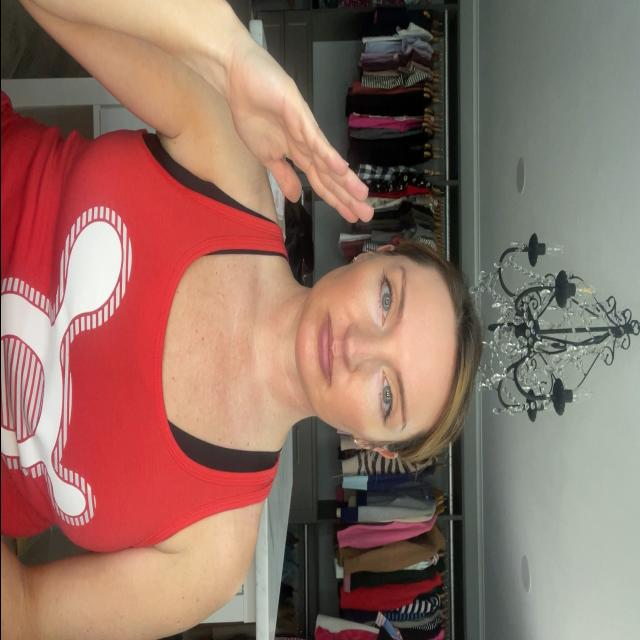Paper: (228, 36, 378, 228)
